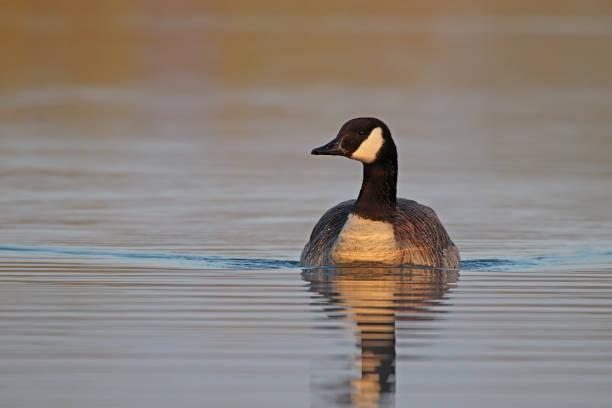Canadian-Goose: (300, 115, 462, 271)
